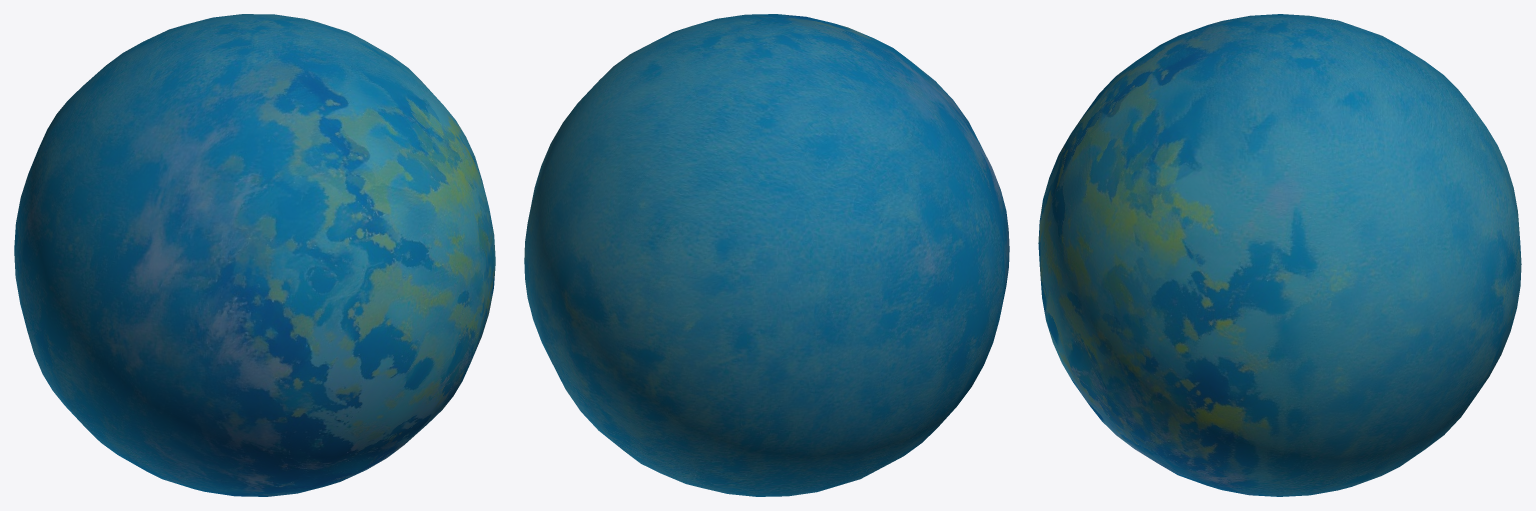
File: earth_planet.glb
The picture shows the model from 3 angles, left to right: view 1: azimuth 30°, elevation 25°; view 2: azimuth 150°, elevation 25°; view 3: azimuth 270°, elevation 25°; orthographic projection.
Visible parts, largest first — view 1: tripo_node_1b072a8a-31d9-41f6-bf78-01958901176f; view 2: tripo_node_1b072a8a-31d9-41f6-bf78-01958901176f; view 3: tripo_node_1b072a8a-31d9-41f6-bf78-01958901176f.
Part boxes in pixels (<box>): tripo_node_1b072a8a-31d9-41f6-bf78-01958901176f: <box>14,14,495,496</box>; tripo_node_1b072a8a-31d9-41f6-bf78-01958901176f: <box>524,14,1009,496</box>; tripo_node_1b072a8a-31d9-41f6-bf78-01958901176f: <box>1038,14,1521,496</box>.
Size of the model in its own units: 0.9995 by 0.9995 by 0.9976.
Materials: 1 (1 with a texture image).
